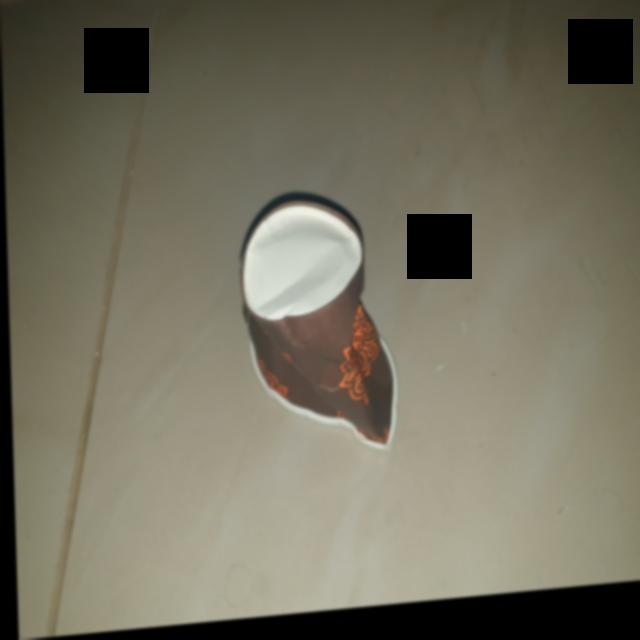cups: (230, 186, 408, 476)
